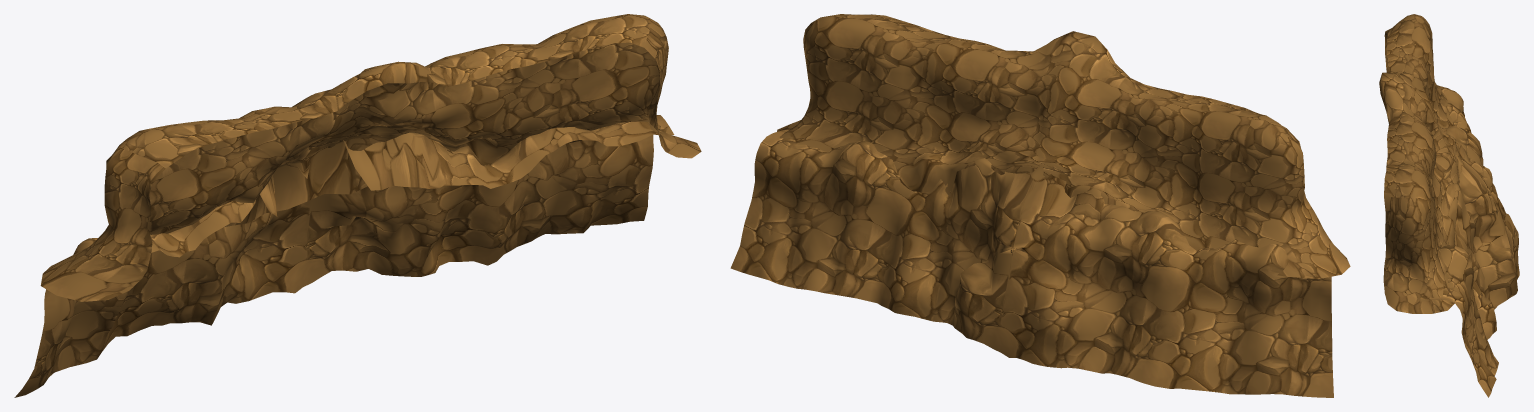
Rendered from cliff.obj.
The picture shows the model from 3 angles, left to right: view 1: azimuth 30°, elevation 25°; view 2: azimuth 150°, elevation 25°; view 3: azimuth 270°, elevation 25°; orthographic projection. The views are drawn at different scales.
Parts seen in each view (by area): view 1: Cliff03LP.001; view 2: Cliff03LP.001; view 3: Cliff03LP.001.
Part boxes in pixels (x1,y1,x2,y2): Cliff03LP.001: (14, 14, 701, 397); Cliff03LP.001: (730, 14, 1350, 397); Cliff03LP.001: (1379, 14, 1519, 397).
Size of the model in its own units: 1458 by 629 by 376.
1 material, 1 textured.
